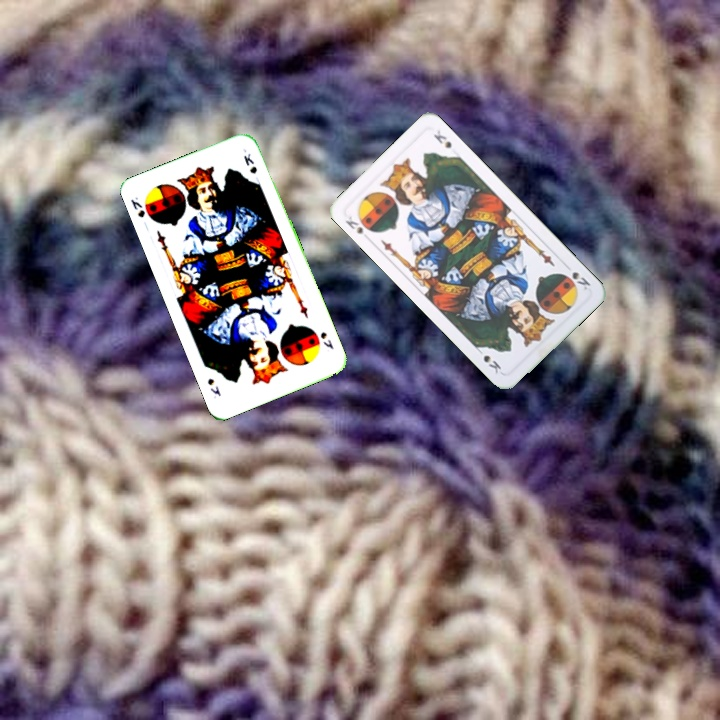SK: (560, 260, 593, 293), (126, 193, 151, 230), (341, 212, 365, 237), (316, 328, 336, 352)
